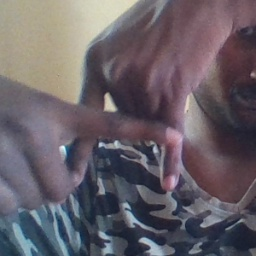H: (52, 56, 207, 204)
